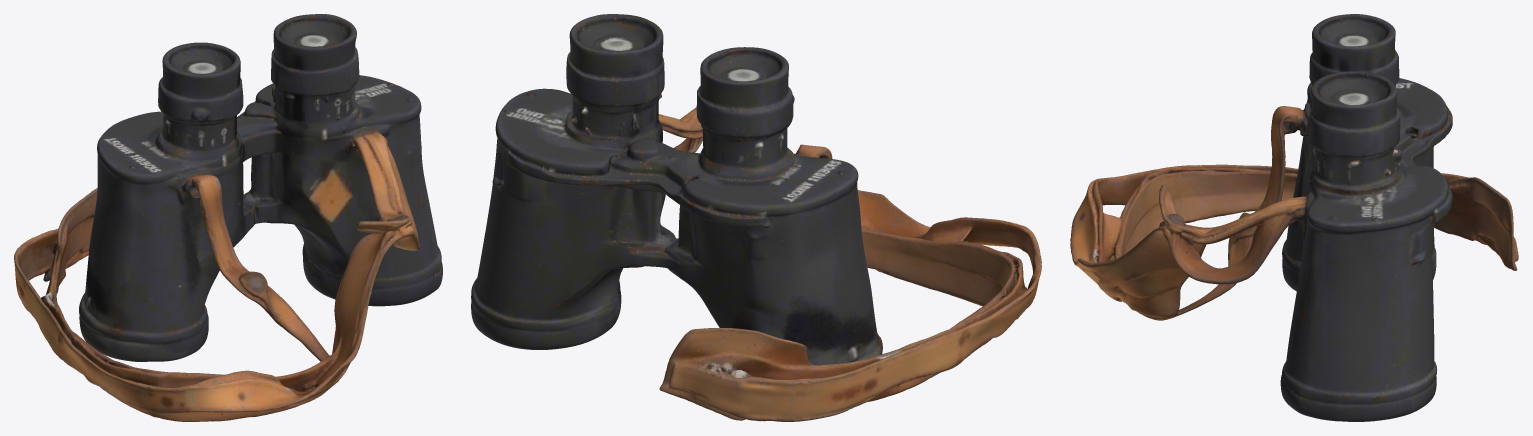
File: Binoculars.glb
The picture shows the model from 3 angles, left to right: view 1: azimuth 30°, elevation 25°; view 2: azimuth 150°, elevation 25°; view 3: azimuth 270°, elevation 25°; orthographic projection. The views are drawn at different scales.
Bounding box in the file's own units: 2 × 1.25 × 1.83.
1 material, 1 textured.
